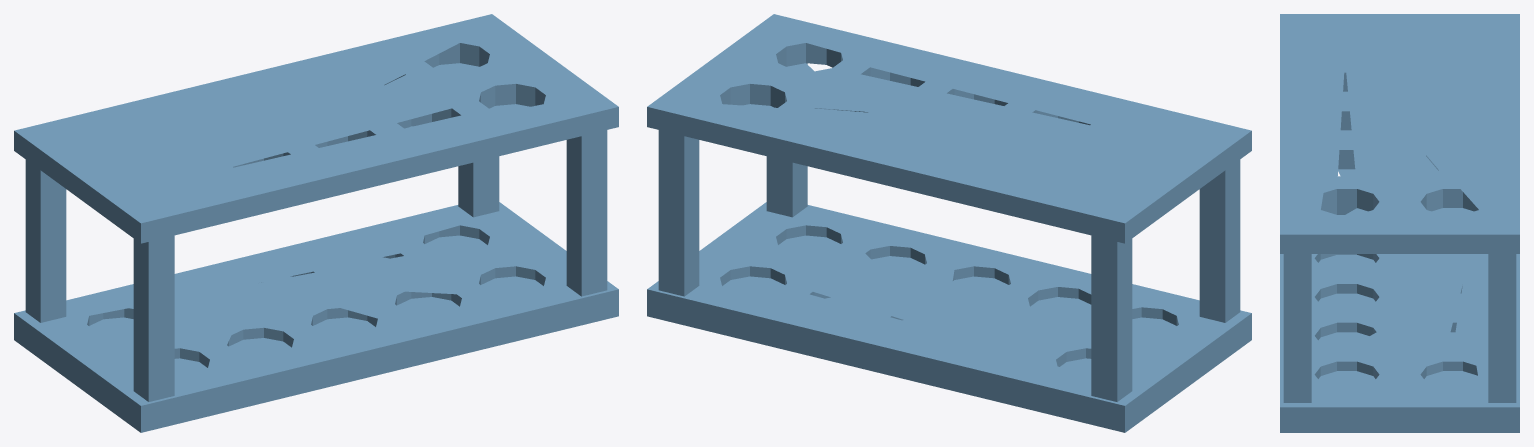
The model's file is tube_rack_lowpoly.fbx.
The picture shows the model from 3 angles, left to right: view 1: azimuth 30°, elevation 25°; view 2: azimuth 150°, elevation 25°; view 3: azimuth 270°, elevation 25°; orthographic projection. The views are drawn at different scales.
Visible parts, largest first — view 1: TubeRack; view 2: TubeRack; view 3: TubeRack.
Boxes of the visible parts, x1=… form: TubeRack: x1=14, y1=14, x2=618, y2=432; TubeRack: x1=647, y1=14, x2=1251, y2=432; TubeRack: x1=1280, y1=14, x2=1519, y2=432.
Size of the model in its own units: 14.8 by 6.2 by 6.8.
